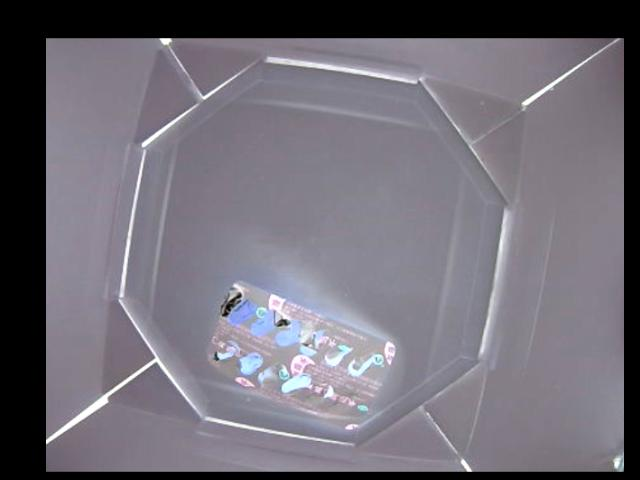Medicine: (210, 280, 403, 430)
